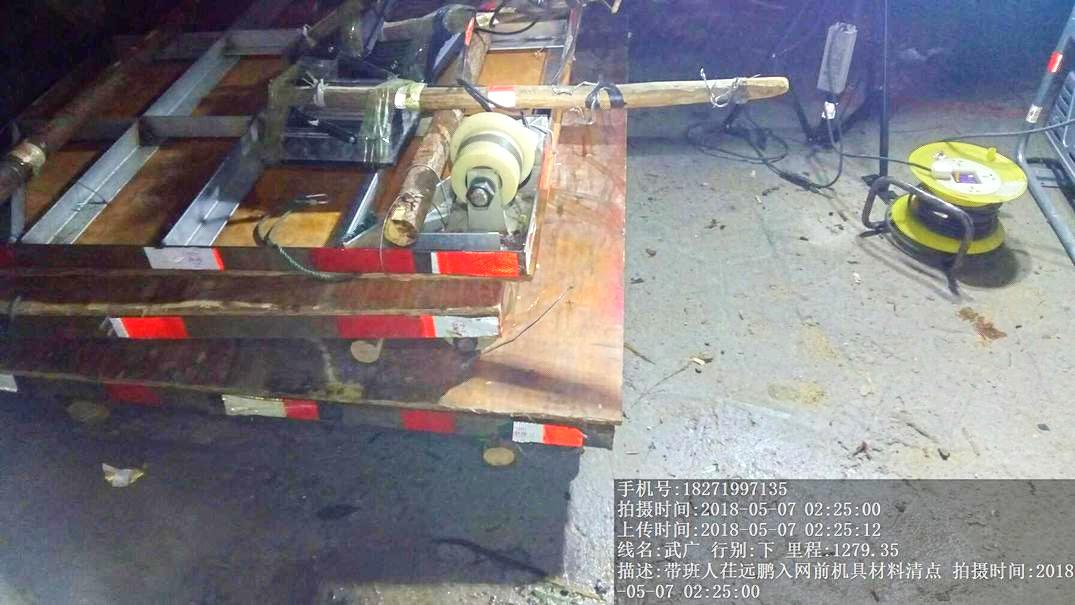DX: (861, 141, 1029, 276)
